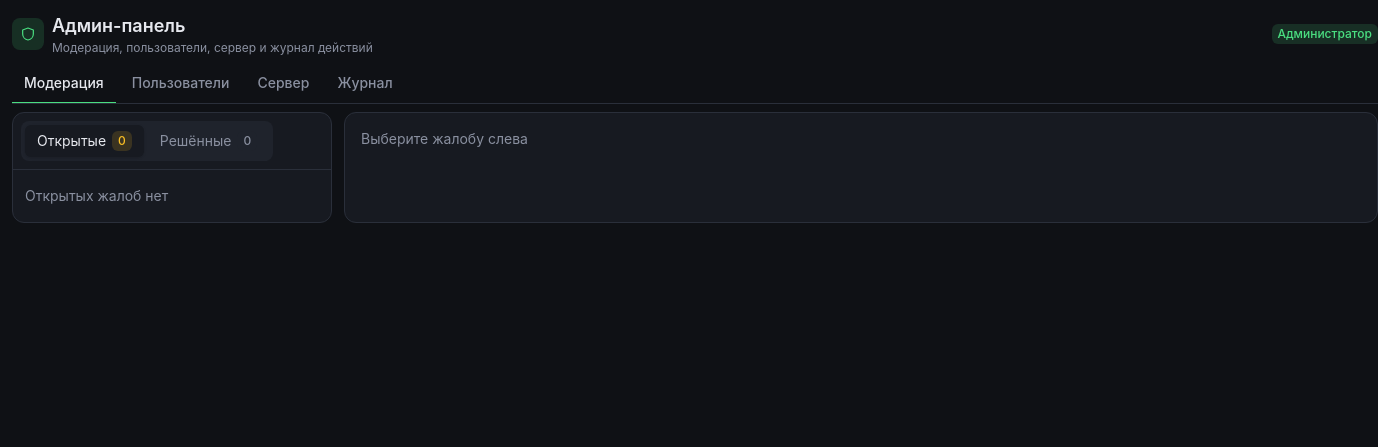
Scenario: server tab › shows presence, disk and backup state
The width and height of the screenshot is (1378, 447).
Click the tab "Сервер".
click(283, 84)  # box [245, 64, 321, 104]
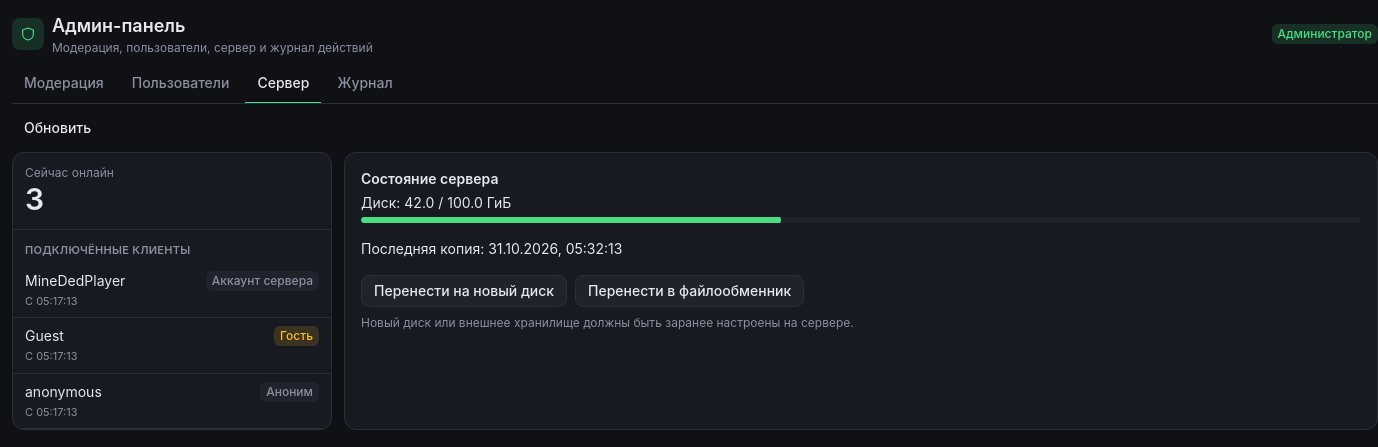
Result: the text "Сейчас онлайн" is shown at [25, 165, 114, 180]
Result: the text "Подключённые клиенты" is shown at [25, 243, 190, 257]
Result: the text "3" is shown at [25, 181, 44, 217]
